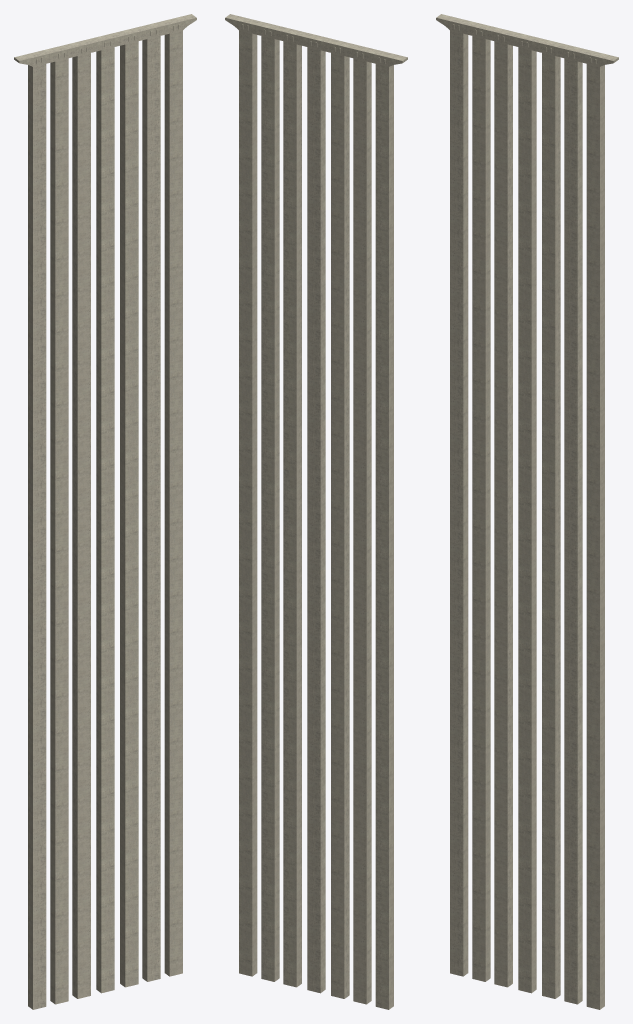
Rendered from BridgePillar3-6L.FBX.
3 renders of one model, left to right at view 1: azimuth 30°, elevation 25°; view 2: azimuth 150°, elevation 25°; view 3: azimuth 330°, elevation 25°, orthographic.
Parts seen in each view (by area): view 1: BridgePillar3-6L; view 2: BridgePillar3-6L; view 3: BridgePillar3-6L.
Boxes of the visible parts, left/top/right/bottom form: BridgePillar3-6L: left=14, top=14, right=196, bottom=1009; BridgePillar3-6L: left=225, top=14, right=407, bottom=1009; BridgePillar3-6L: left=436, top=14, right=618, bottom=1009.
Bounding box in the file's own units: 40 × 205 × 2.25.
